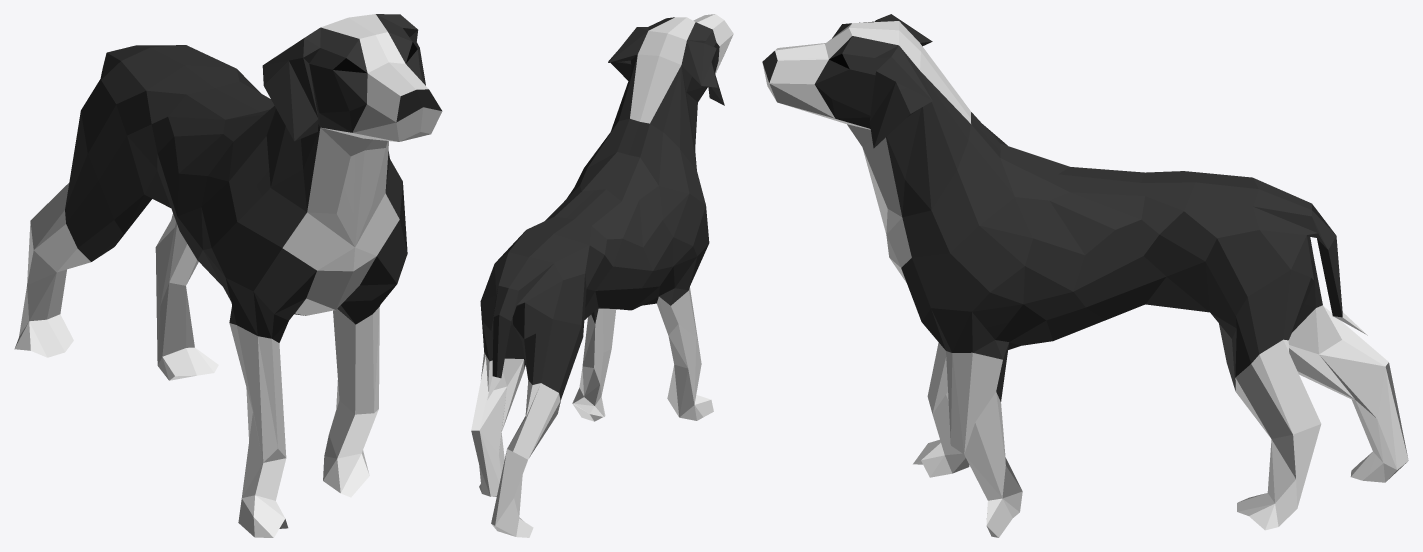
Rendered from Dog_2.FBX.
3 renders of one model, left to right at view 1: azimuth 30°, elevation 25°; view 2: azimuth 150°, elevation 25°; view 3: azimuth 270°, elevation 25°, orthographic. The views are drawn at different scales.
Visible parts, largest first — view 1: Dog_2; view 2: Dog_2; view 3: Dog_2.
Boxes of the visible parts, bbox=[...] form: Dog_2: bbox=[14, 14, 442, 537]; Dog_2: bbox=[471, 14, 733, 537]; Dog_2: bbox=[762, 14, 1408, 537].
Bounding box in the file's own units: 0.2461 × 0.7259 × 0.8768.
Materials: 1 (1 with a texture image).
